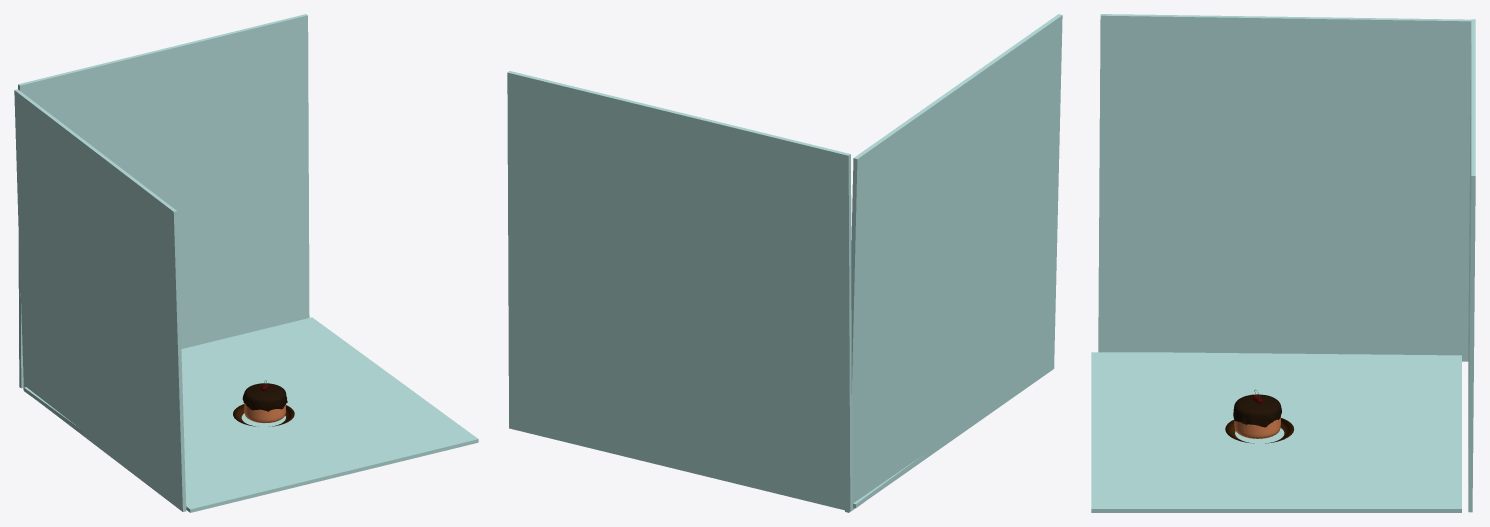
The model's file is Cake01.fbx.
The picture shows the model from 3 angles, left to right: view 1: azimuth 30°, elevation 25°; view 2: azimuth 150°, elevation 25°; view 3: azimuth 270°, elevation 25°; orthographic projection. The views are drawn at different scales.
Parts seen in each view (by area): view 1: Куб.001, Куб.002, Куб, Плоскость, Цилиндр; view 2: Куб.001, Куб.002; view 3: Куб.002, Куб, Куб.001, Плоскость, Цилиндр.
Boxes of the visible parts, <box> form: Куб.001: <box>18,14,309,388</box>; Куб.002: <box>14,89,186,511</box>; Куб: <box>24,317,478,512</box>; Плоскость: <box>242,383,287,411</box>; Цилиндр: <box>244,403,285,423</box>; Куб.001: <box>507,71,852,511</box>; Куб.002: <box>845,14,1062,512</box>; Куб.002: <box>1098,14,1471,361</box>; Куб: <box>1091,352,1461,512</box>; Куб.001: <box>1468,19,1475,512</box>; Плоскость: <box>1233,394,1281,427</box>; Цилиндр: <box>1234,416,1280,438</box>.
Bounding box in the file's own units: 3182 × 3080 × 3163.
